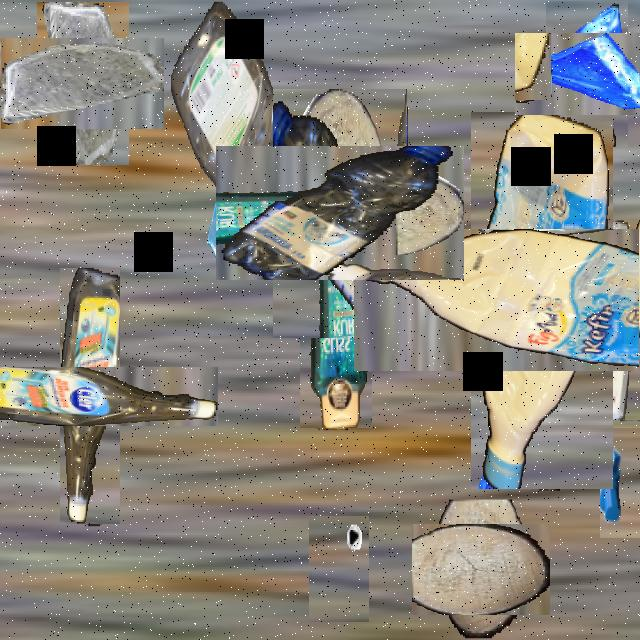glass: (19, 20, 147, 147), (530, 17, 640, 131), (205, 167, 271, 285)
metal: (309, 516, 369, 622), (600, 428, 640, 538)
plastic: (412, 170, 640, 430), (244, 118, 436, 309), (171, 2, 291, 233), (11, 318, 169, 476), (300, 176, 372, 428), (562, 260, 640, 379)
wood: (424, 511, 538, 627), (298, 89, 382, 156)
